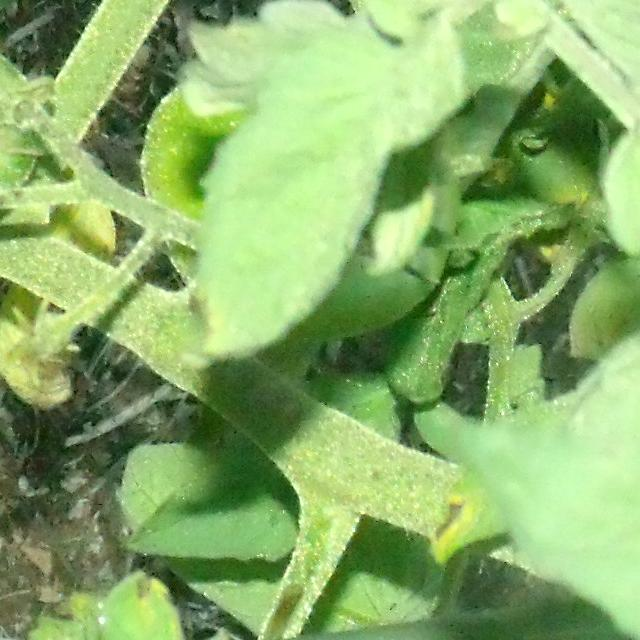Tomato leaf bacterial spot: (173, 0, 460, 379), (0, 503, 196, 640), (0, 0, 319, 15), (0, 568, 13, 640)
